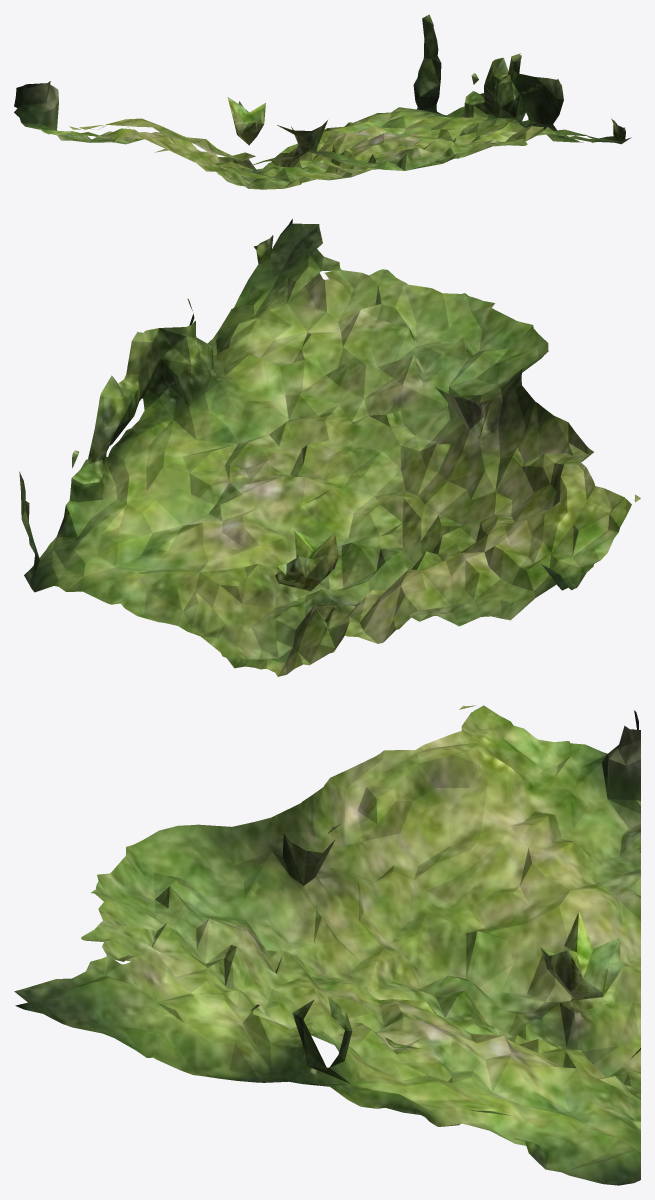
3 renders of one model, top to bottom at view 1: azimuth 30°, elevation 25°; view 2: azimuth 150°, elevation 25°; view 3: azimuth 270°, elevation 25°, orthographic. The views are drawn at different scales.
Bounding box in the file's own units: 26.11 × 8.79 × 23.04.
Materials: 2 (2 with a texture image).
